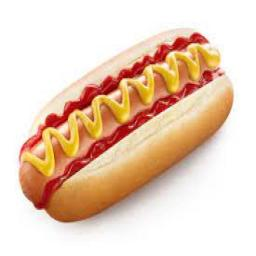hotdog: (14, 19, 236, 228)
